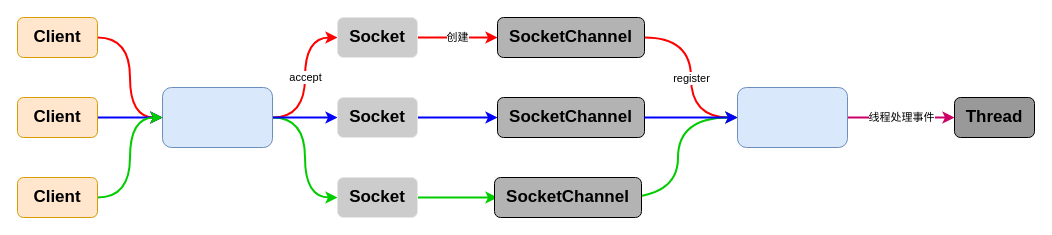
This 1052x235 diagram has some shape labels left out. Each missing label, with the box of its shape:
Selector: (736, 86, 848, 148)
server port: (162, 86, 272, 148)
